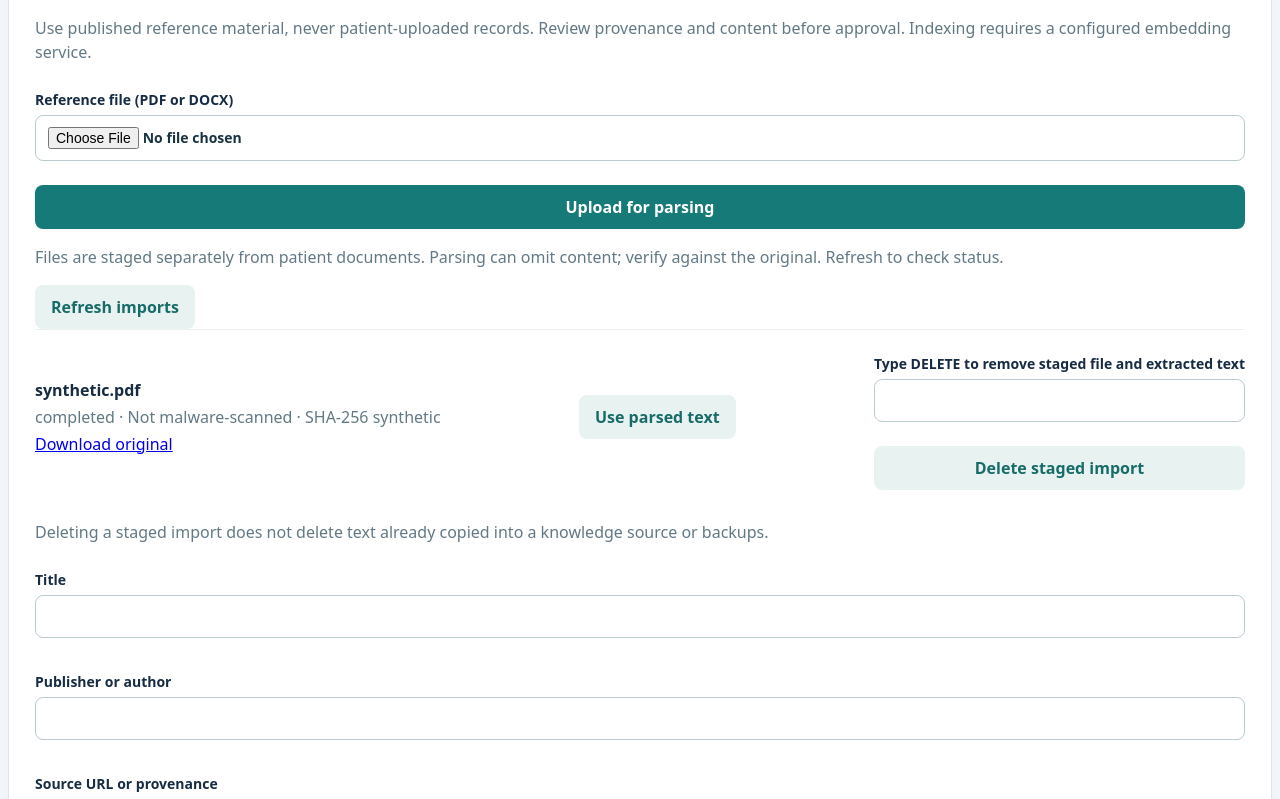
requests deletion and displays the staged-file purge status
The image size is (1280, 799).
(page scrolled)
In the field labelled "Type DELETE to remove staged file and extracted text": (1060, 400) [874,378,1245,422], type "DELETE"
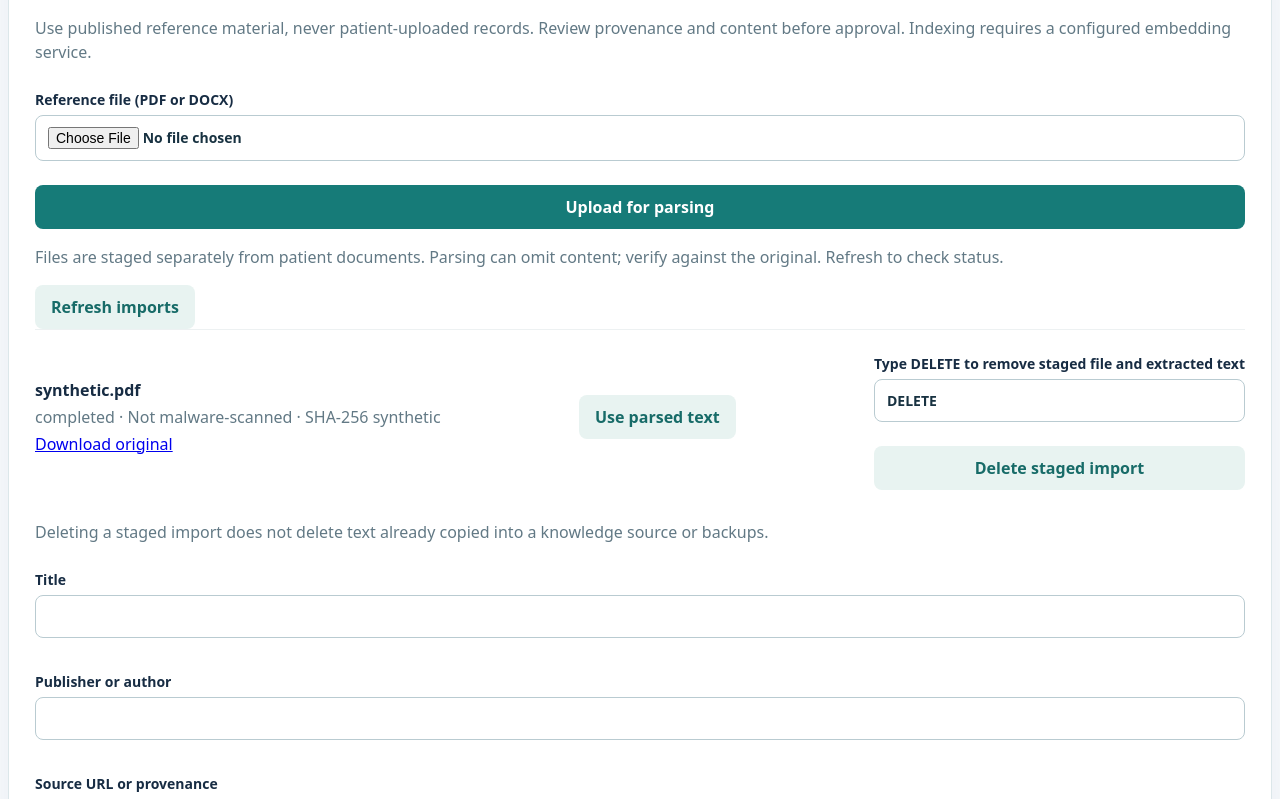
Click the button "Delete staged import": (1060, 468) [874,446,1245,490]
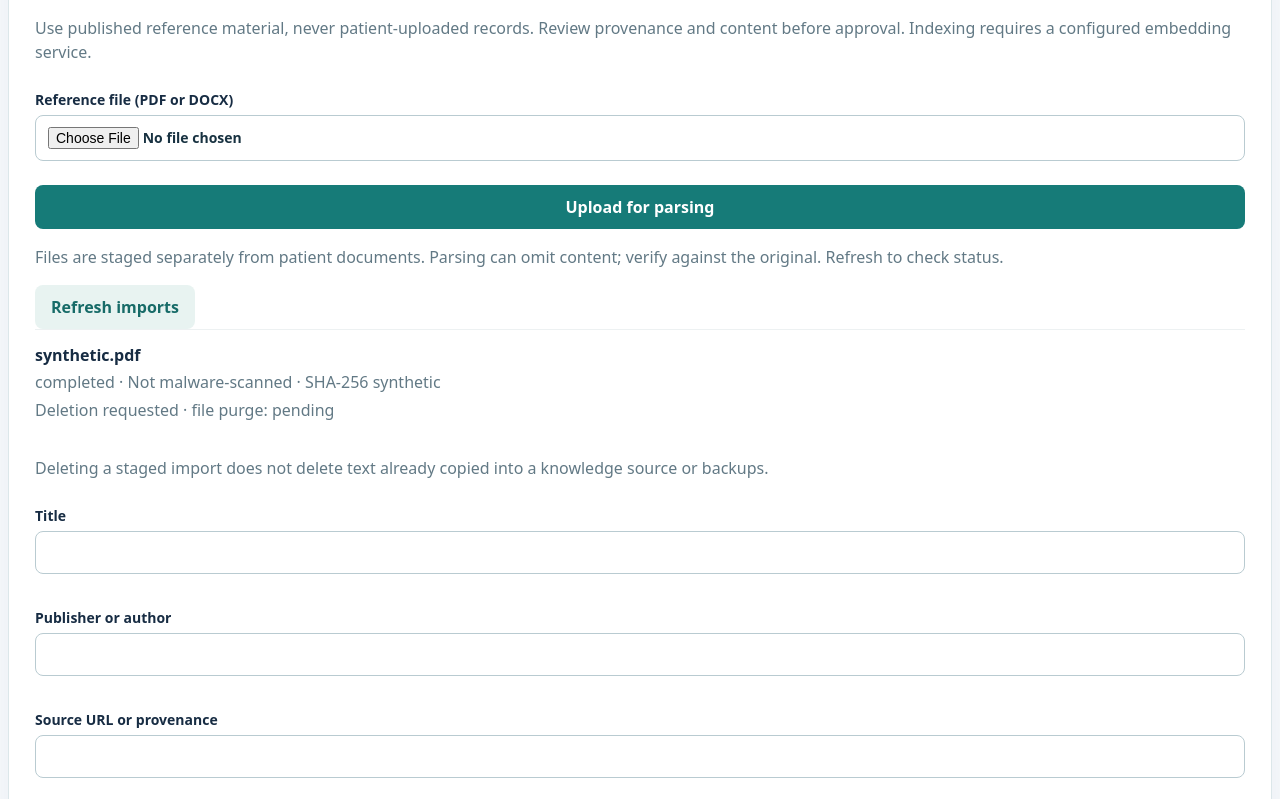
Expected: the text "Deletion requested · file purge: pending" is shown, [35,398,334,420]
Expected: the link "Download original" is gone
